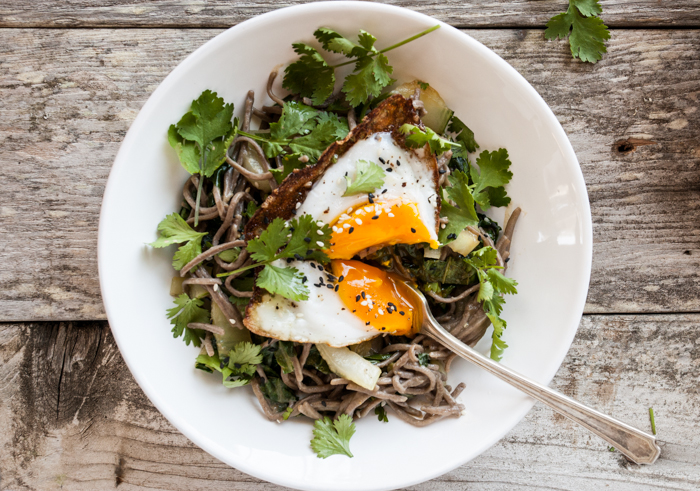Soba: (146, 65, 528, 434)
